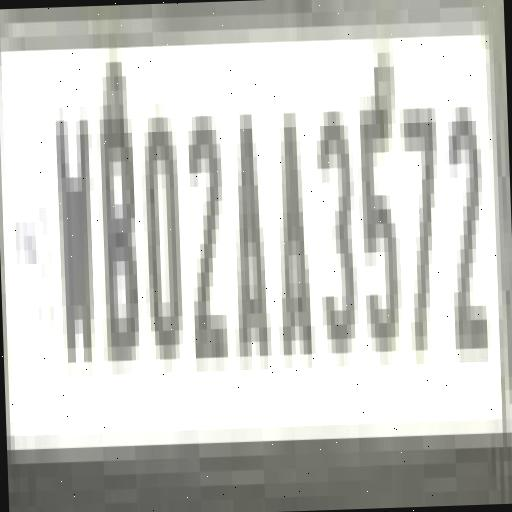number plate: (15, 0, 512, 463)
